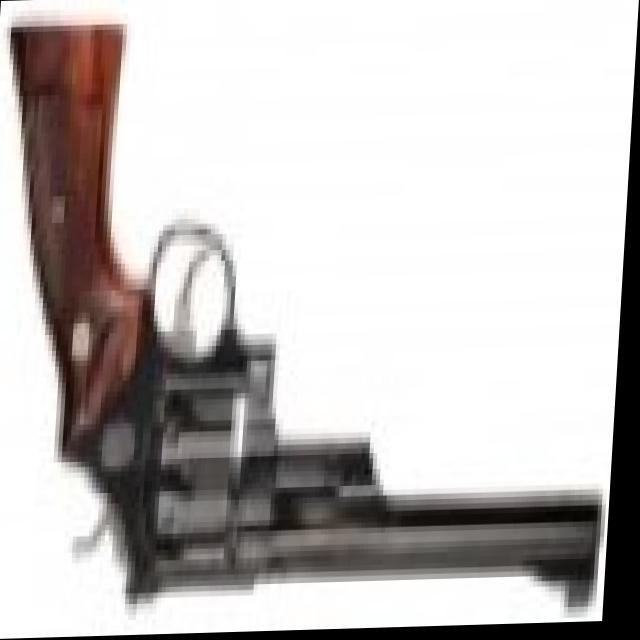handgun: (0, 17, 639, 640)
